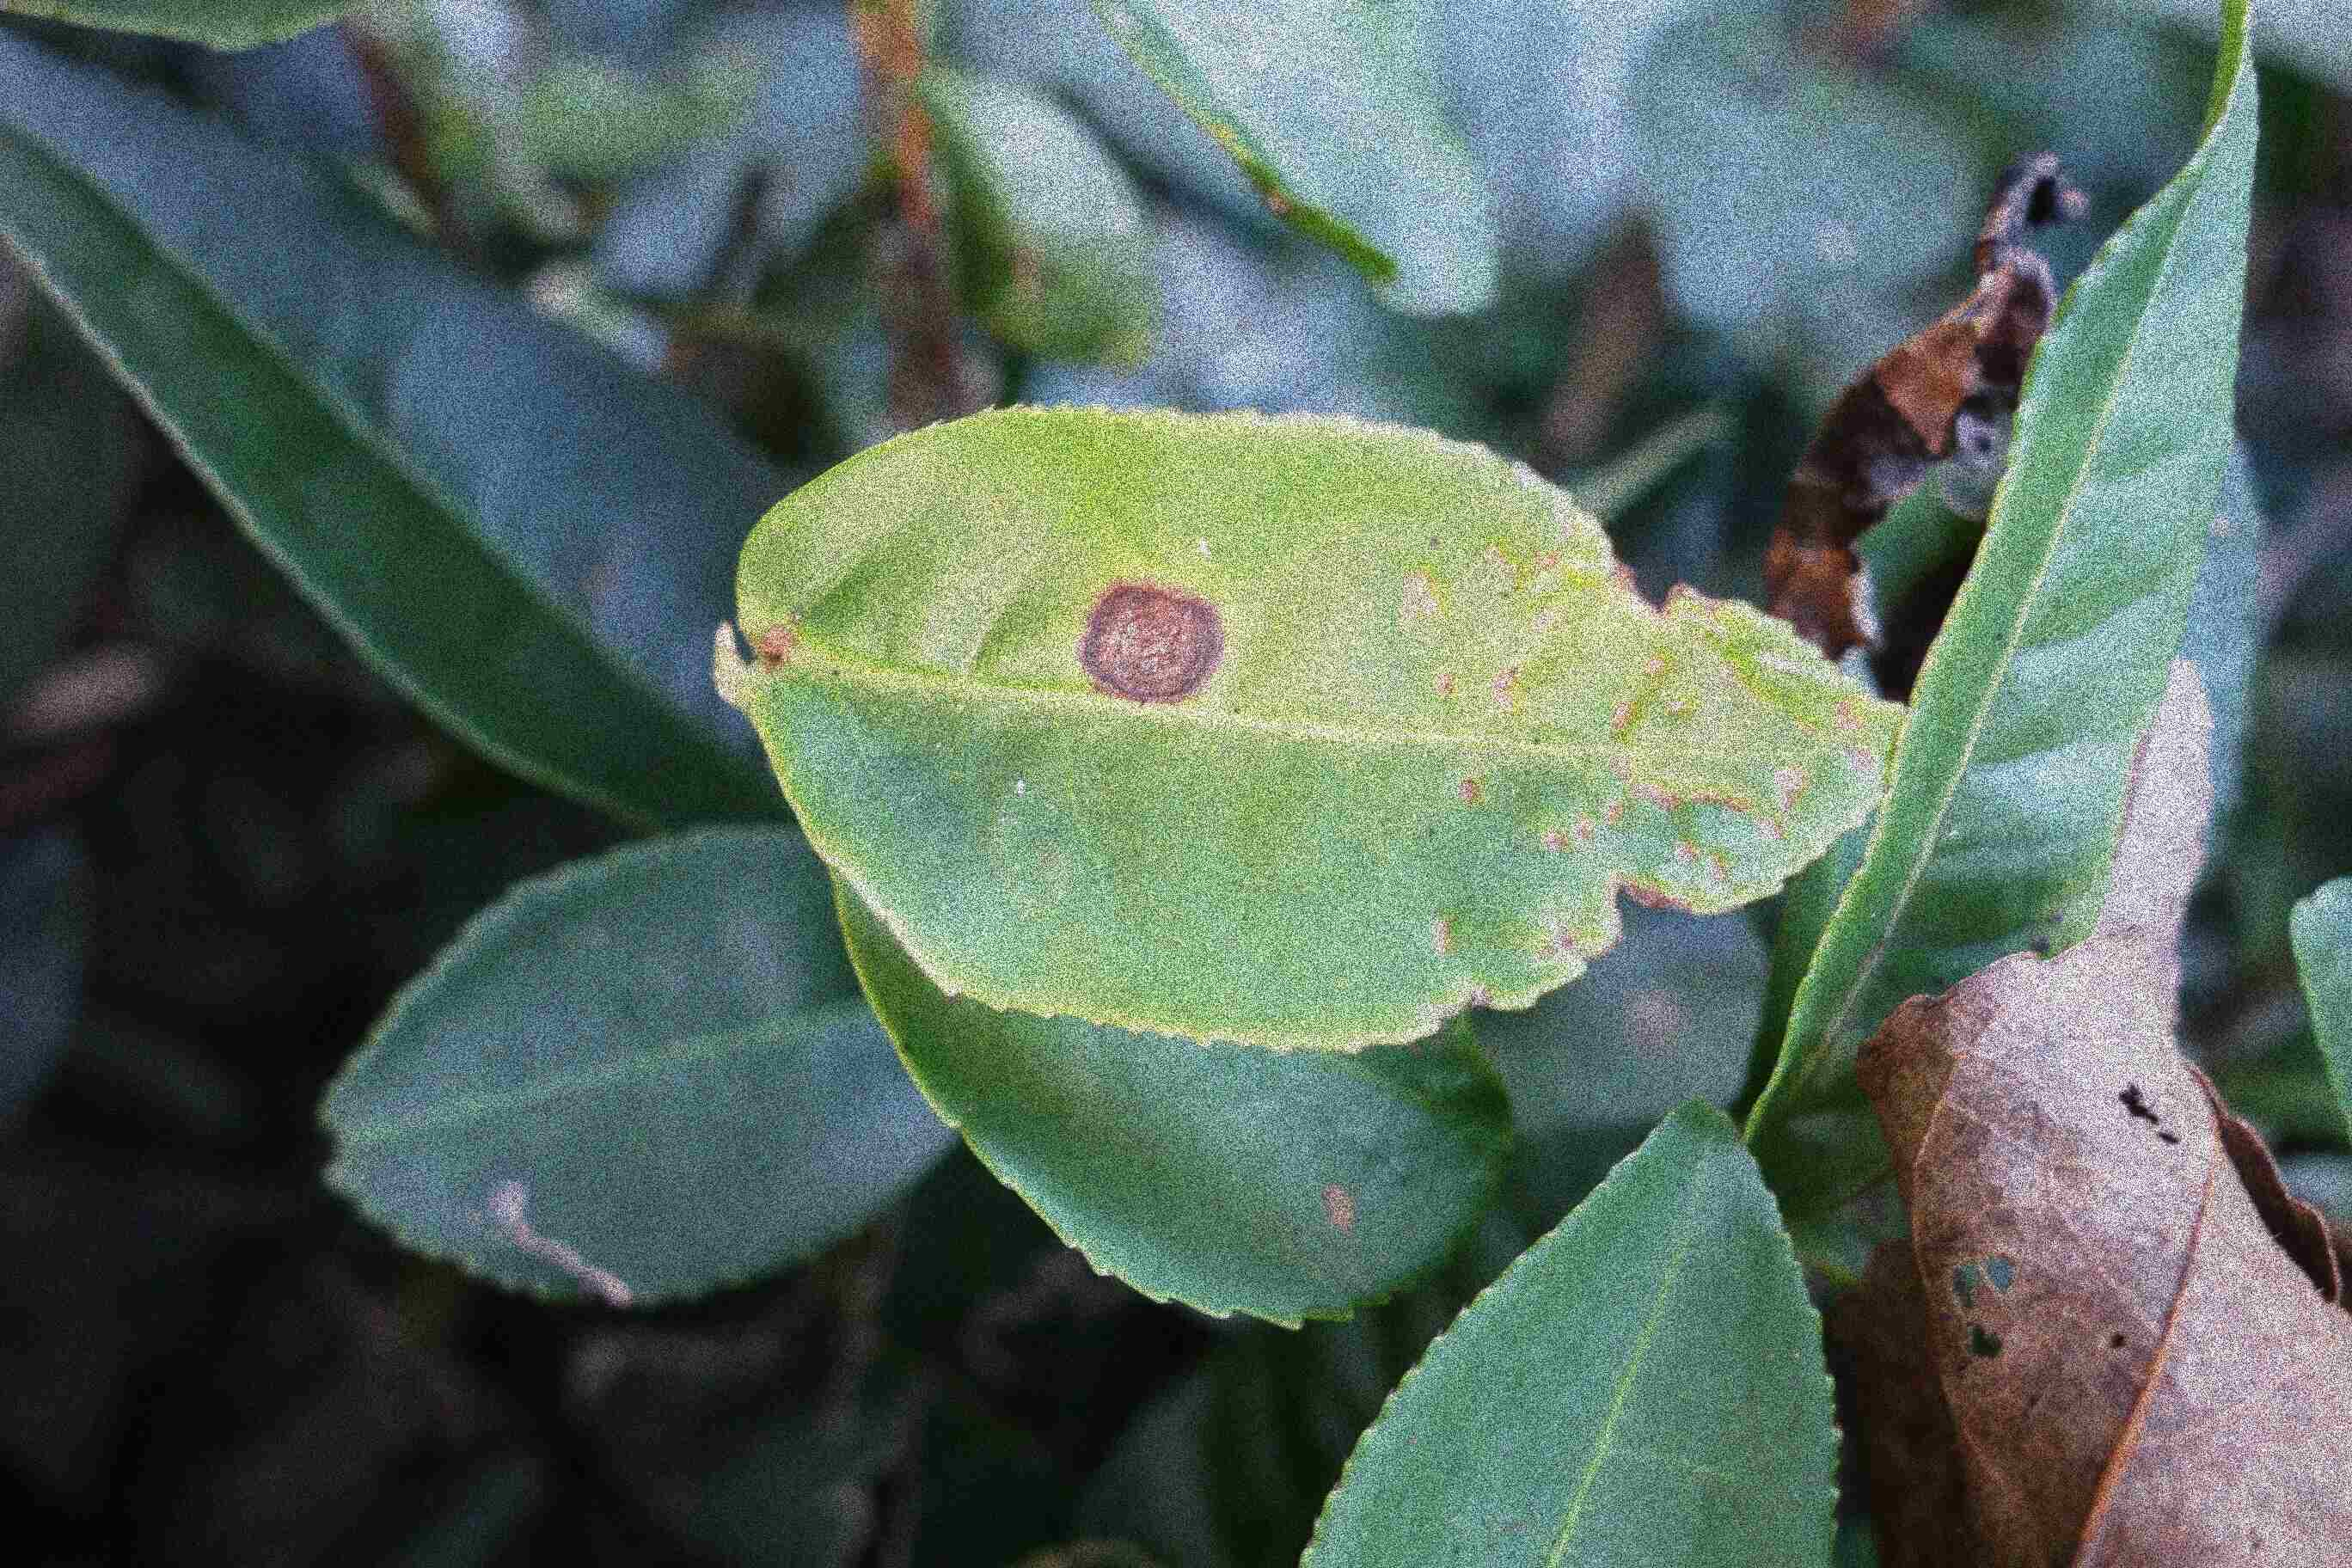tanju_high: (735, 392, 1911, 1053)
tanju_low: (310, 831, 868, 1305)
